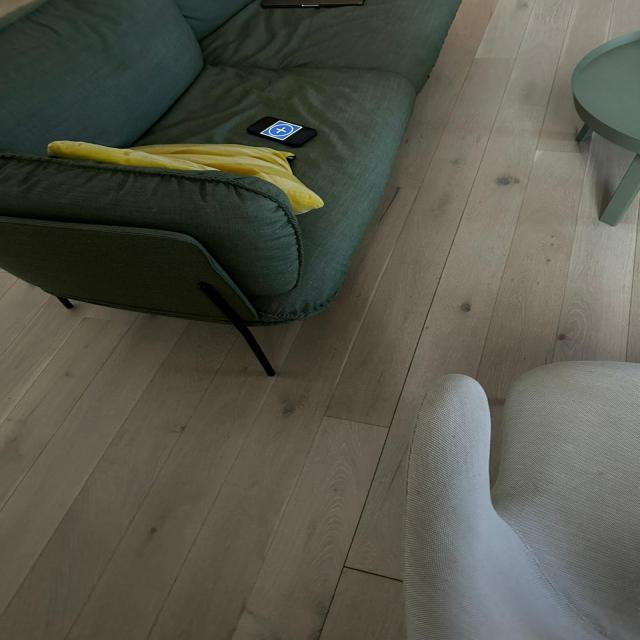Marker: (260, 120, 304, 141)
